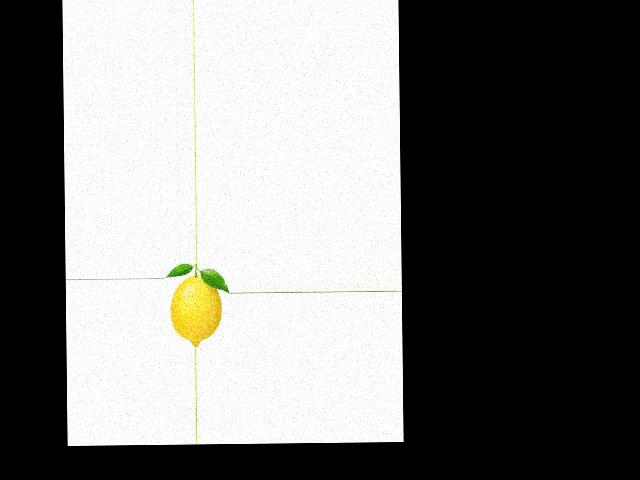lemon: (165, 269, 220, 347)
